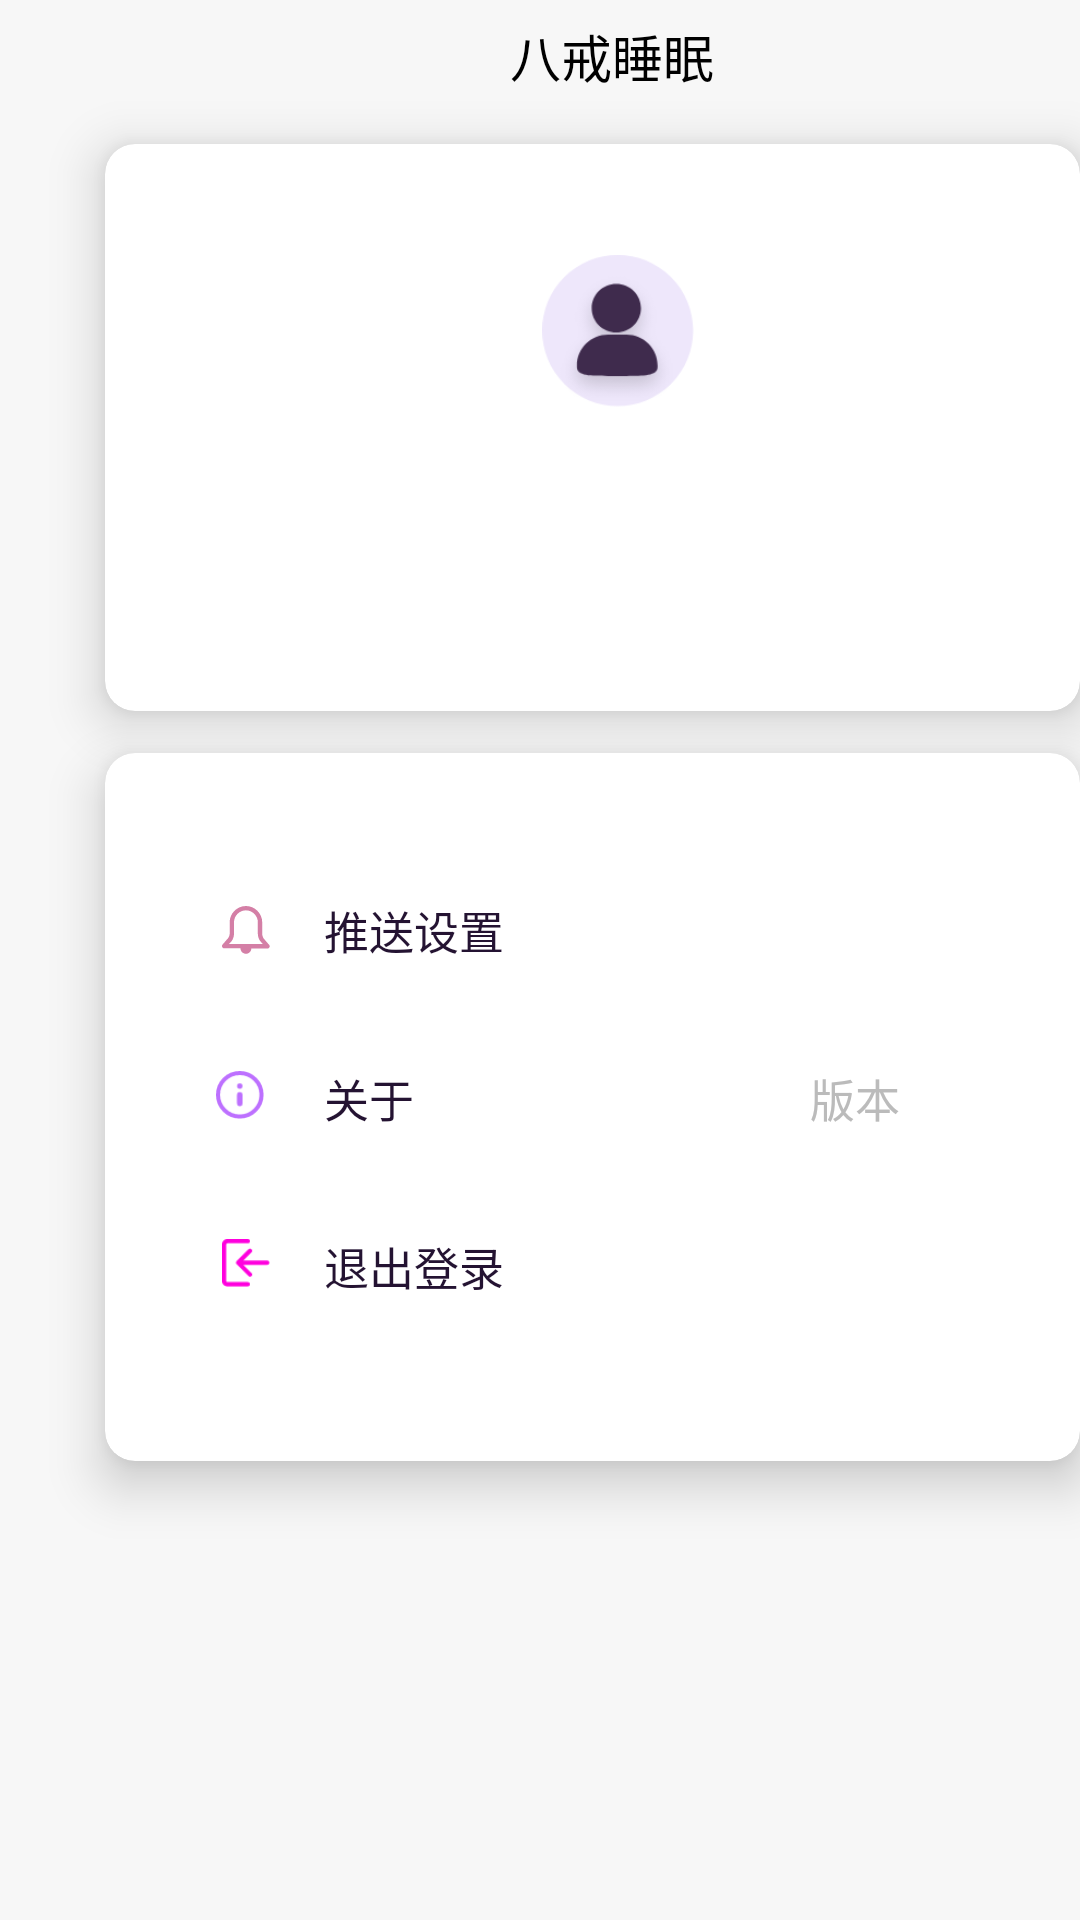

Icons on this 1080 × 1920 Android screen, each with its box as BBox(x1, y1, x2, y2):
fragment user head: BBox(560, 276, 673, 401)
info: BBox(216, 1071, 264, 1119)
user fragment push: BBox(222, 906, 270, 954)
